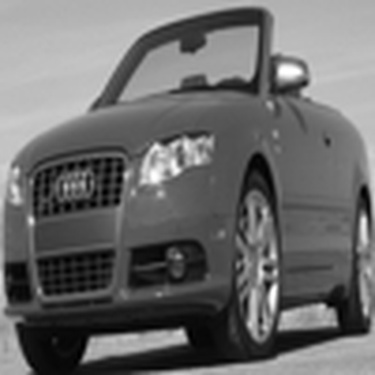car: (1, 13, 372, 356)
